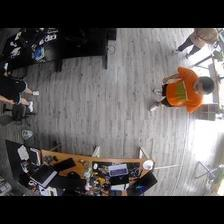normal: (148, 67, 216, 111), (1, 71, 40, 111)
